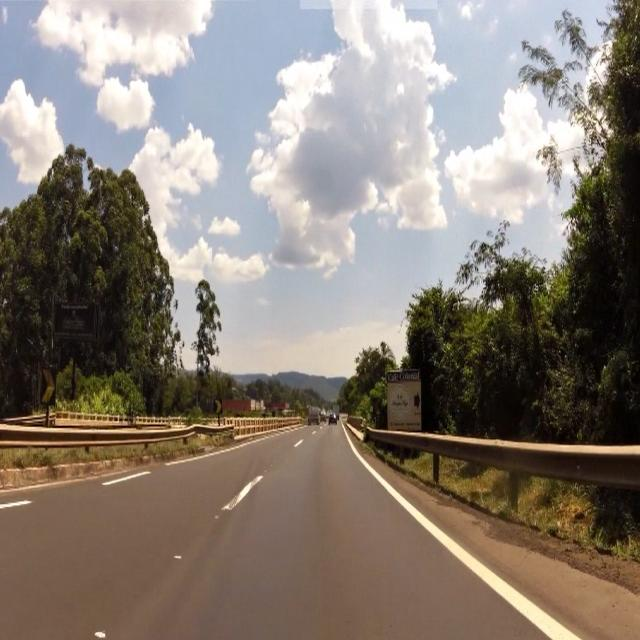Del: (41, 368, 56, 408), (213, 399, 225, 421)
